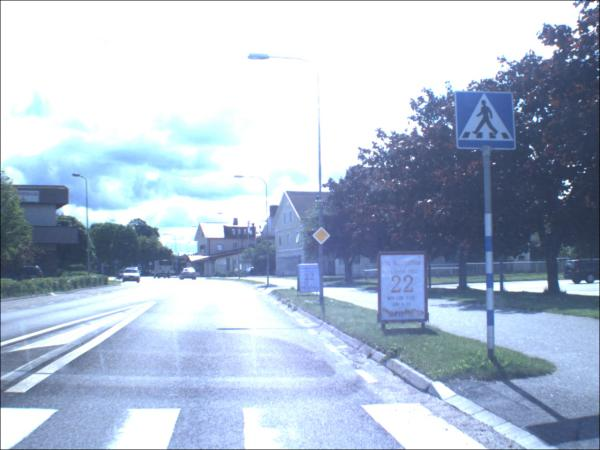PEDESTRIAN_CROSSING: (456, 93, 517, 151)
PRIORITY_ROAD: (313, 227, 333, 247)
